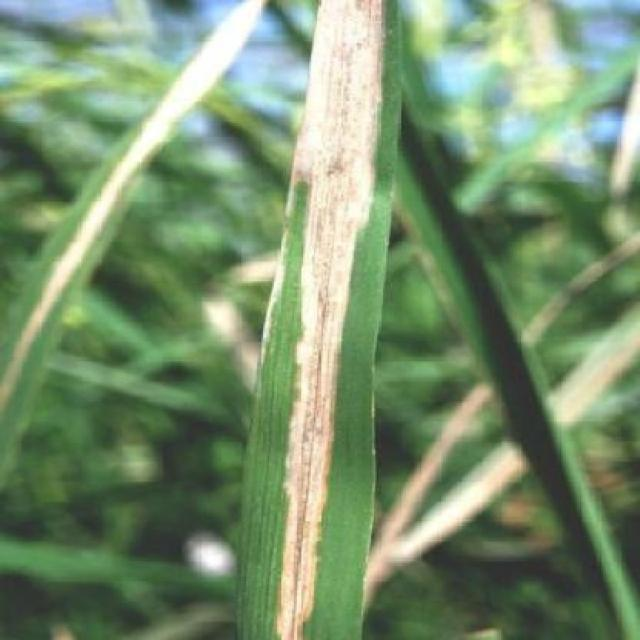Brown_Spot: (276, 0, 345, 635)
